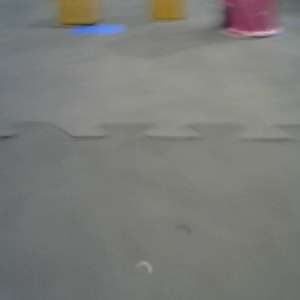right: (223, 1, 300, 123)
